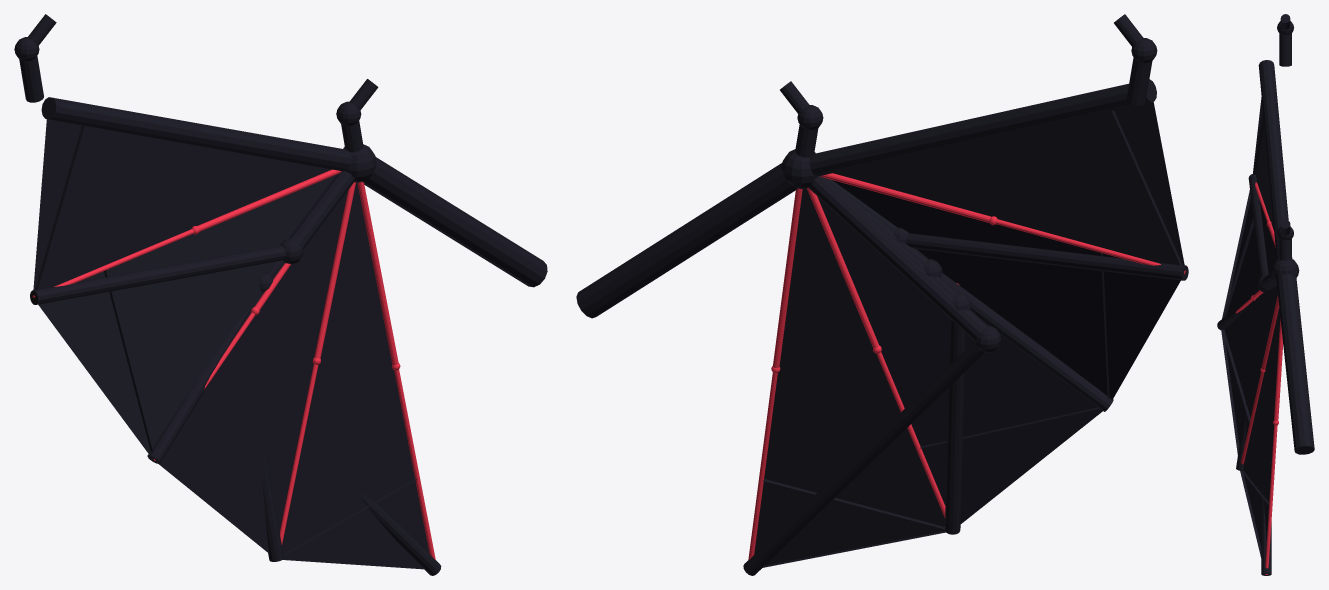
File: AntiWingLeft.obj
3 views of the same model, side by side, from view 1: azimuth 30°, elevation 25°; view 2: azimuth 150°, elevation 25°; view 3: azimuth 270°, elevation 25° (orthographic). The views are drawn at different scales.
Visible parts, largest first — view 1: AntiWingLeft; view 2: AntiWingLeft; view 3: AntiWingLeft.
Part boxes in pixels (x1,y1,x2,y2): AntiWingLeft: (14, 14, 547, 575); AntiWingLeft: (576, 14, 1188, 575); AntiWingLeft: (1217, 14, 1314, 575).
Bounding box in the file's own units: 6.81 × 7.61 × 1.53.
